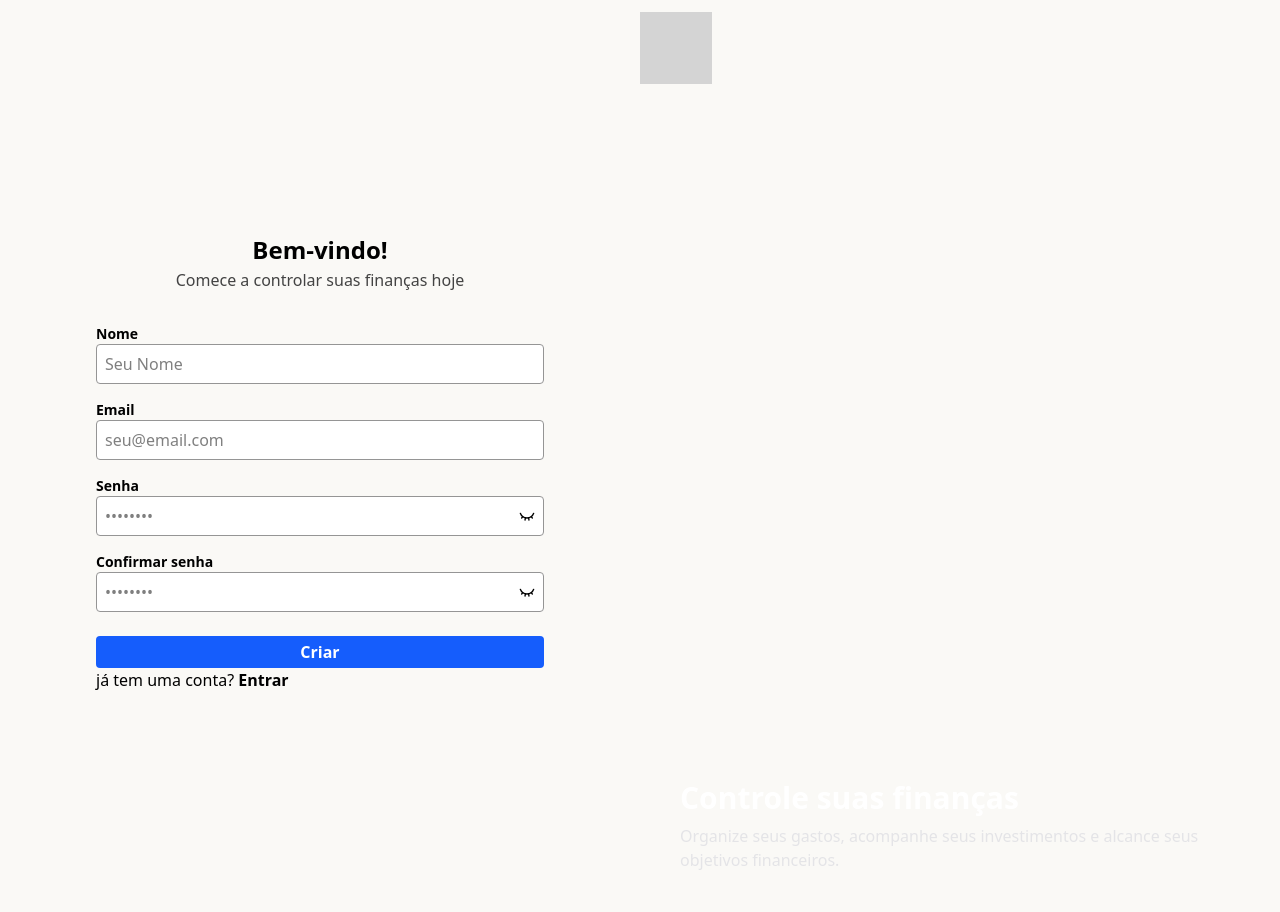
Test: RegisterForm › Should show password strength when the user enters the password
This screenshot has width=1280, height=912.
Check: the text "Força da senha:" is not shown
Type "Password@123" into the password field labelled "Senha" at (308, 516), box 97,497 -> 519,535
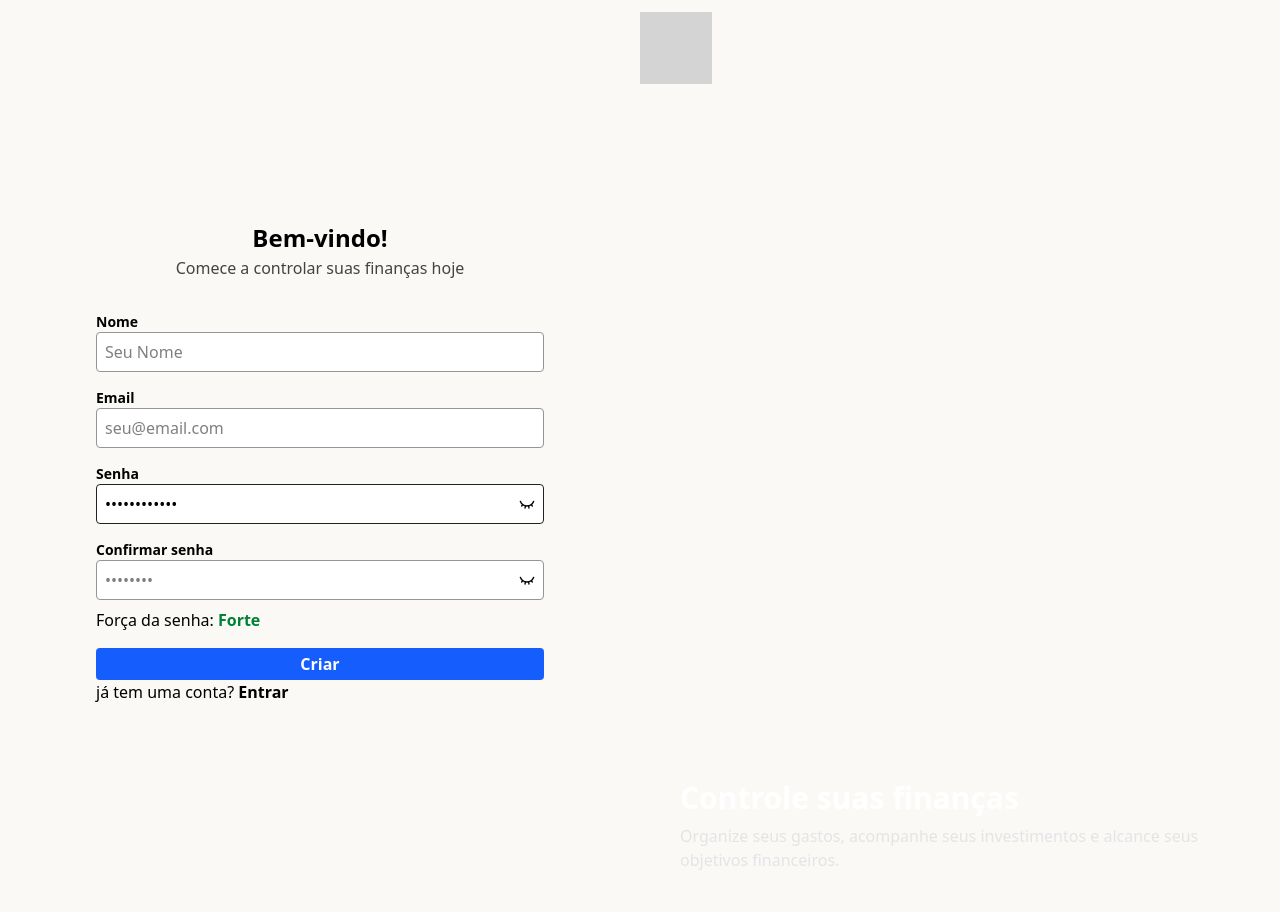
Check: the text "Força da senha: Forte" is shown, box 96,609 -> 260,631
